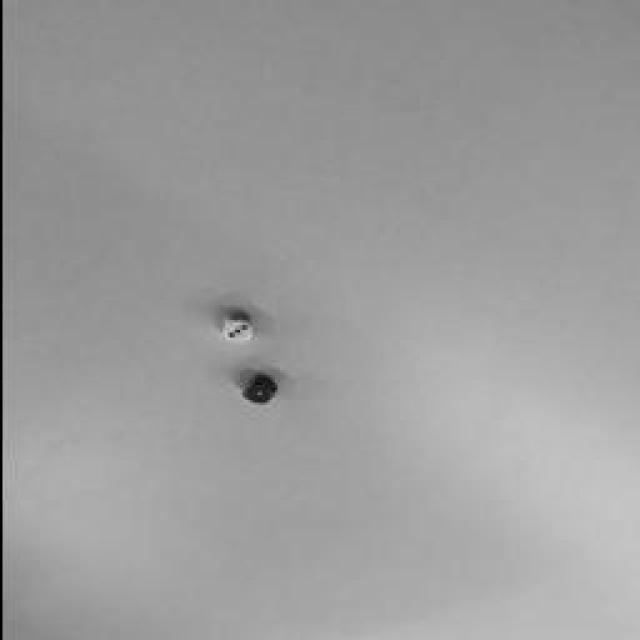dice_1: (244, 384, 271, 404)
dice_3: (224, 320, 248, 340)
